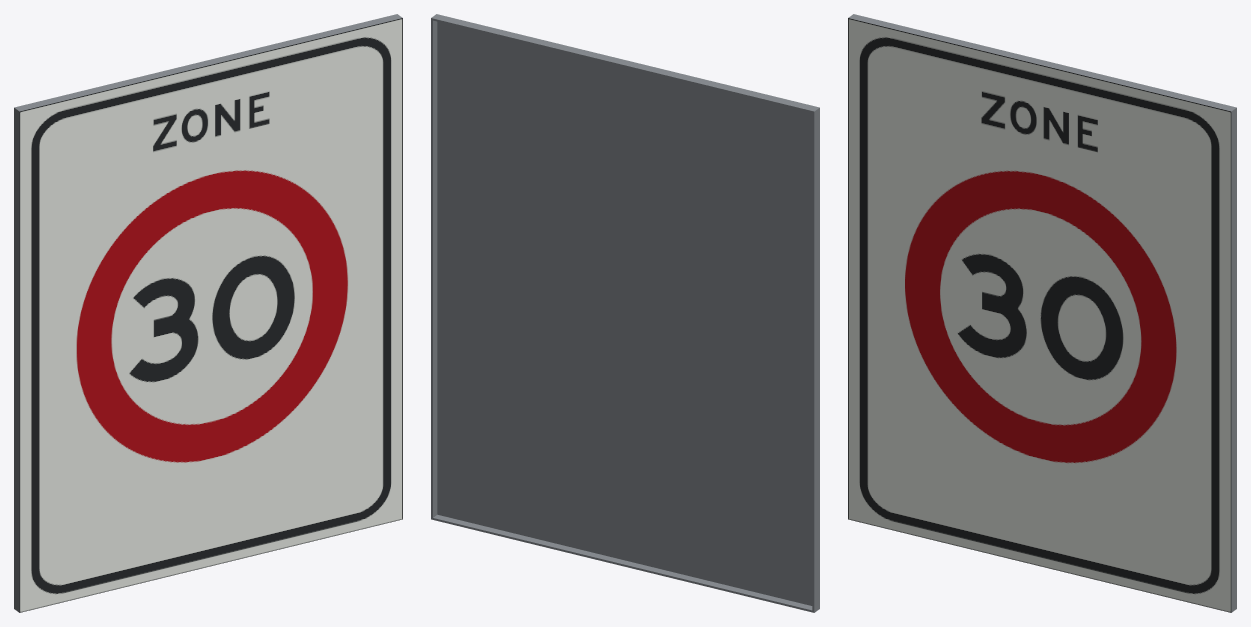
The picture shows the model from 3 angles, left to right: view 1: azimuth 30°, elevation 25°; view 2: azimuth 150°, elevation 25°; view 3: azimuth 330°, elevation 25°; orthographic projection.
Visible parts, largest first — view 1: A1_30-ZB; view 2: A1_30-ZB; view 3: A1_30-ZB.
Boxes of the visible parts, bbox=[...] form: A1_30-ZB: bbox=[14, 14, 402, 612]; A1_30-ZB: bbox=[431, 14, 819, 612]; A1_30-ZB: bbox=[848, 14, 1236, 612].
Size of the model in its own units: 0.6 by 0.015 by 0.75.
2 materials, 1 textured.
